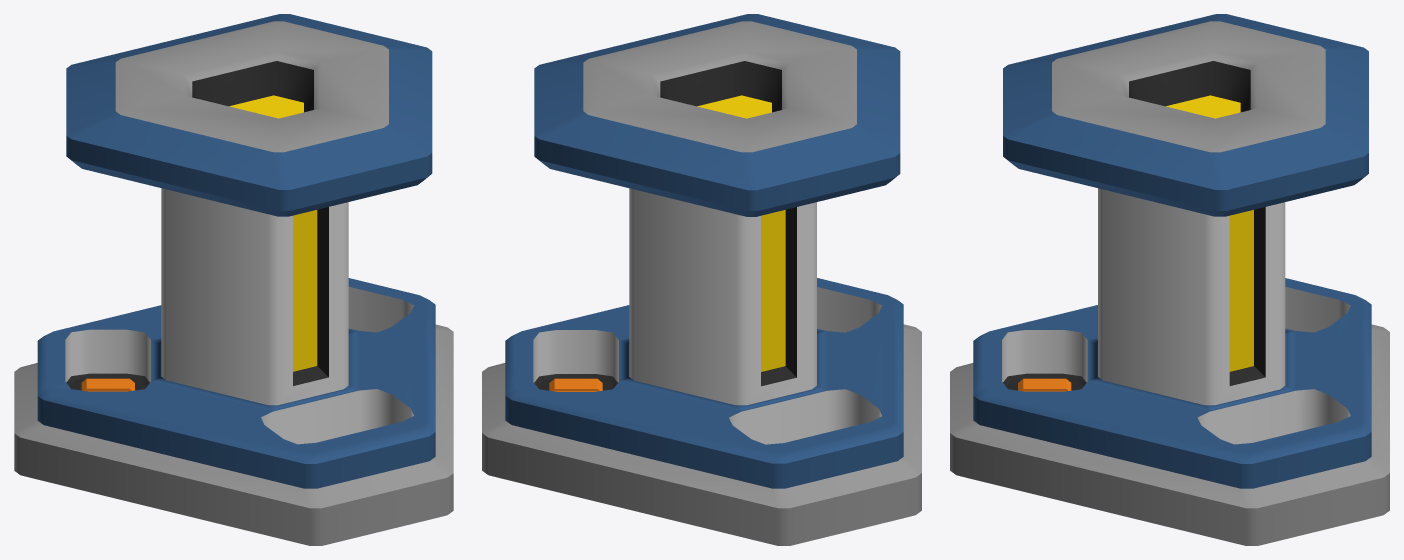
File: TriCharger.FBX
The picture shows the model from 3 angles, left to right: view 1: azimuth 30°, elevation 25°; view 2: azimuth 150°, elevation 25°; view 3: azimuth 270°, elevation 25°; orthographic projection.
Parts seen in each view (by area): view 1: TriCharger, Top, Middle; view 2: TriCharger, Top, Middle; view 3: TriCharger, Top, Middle.
Boxes of the visible parts, x1,y1,x2,y2 form: TriCharger: (14, 278, 453, 545); Top: (66, 14, 432, 216); Middle: (161, 188, 348, 405); TriCharger: (482, 278, 921, 545); Top: (534, 14, 900, 216); Middle: (629, 188, 816, 405); TriCharger: (950, 278, 1389, 545); Top: (1003, 14, 1368, 216); Middle: (1098, 188, 1285, 405).
Bounding box in the file's own units: 126 × 100 × 111.
